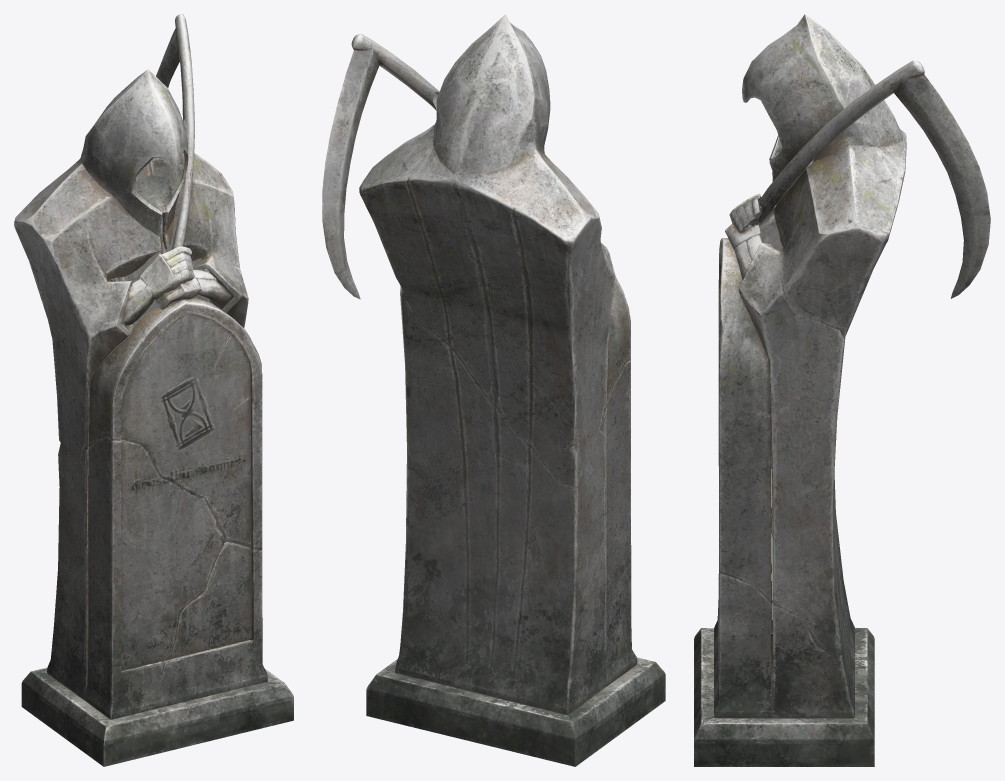
3 views of the same model, side by side, from view 1: azimuth 30°, elevation 25°; view 2: azimuth 150°, elevation 25°; view 3: azimuth 270°, elevation 25° (orthographic). The views are drawn at different scales.
Parts seen in each view (by area): view 1: SM_Player_Gravestone_01_LOD0; view 2: SM_Player_Gravestone_01_LOD0; view 3: SM_Player_Gravestone_01_LOD0.
Part boxes in pixels (x1,y1,x2,y2): SM_Player_Gravestone_01_LOD0: (14,14,293,766); SM_Player_Gravestone_01_LOD0: (322,14,665,766); SM_Player_Gravestone_01_LOD0: (694,14,990,766).
Size of the model in its own units: 0.7629 by 2.36 by 0.9056.
Materials: 1 (1 with a texture image).
